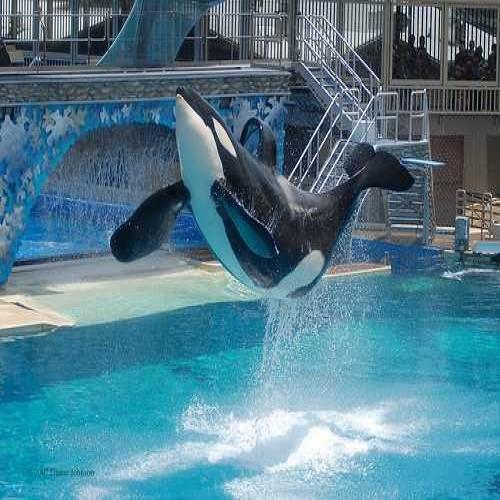killer_whale-endangered: (125, 55, 414, 316)
